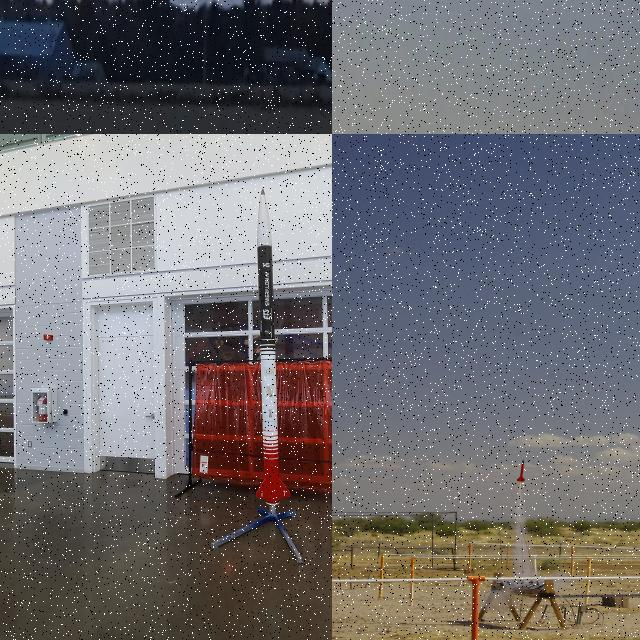Rocket: (256, 188, 290, 504), (517, 459, 525, 482)
